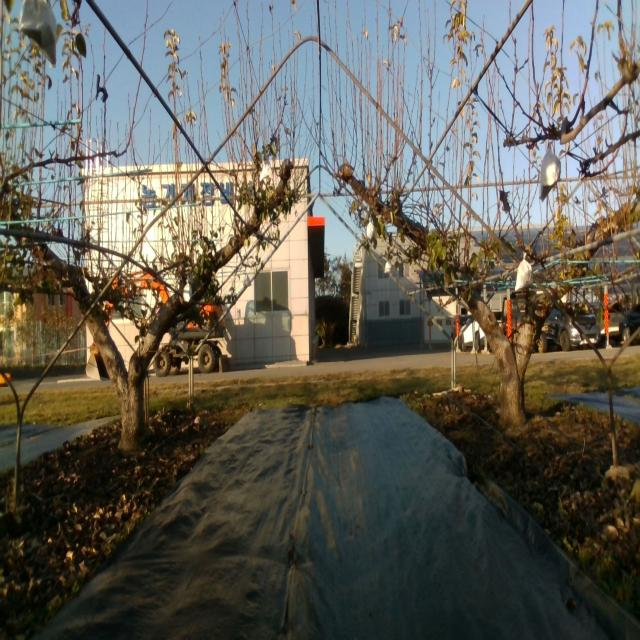pearbags: (18, 0, 56, 65), (539, 146, 562, 200), (514, 250, 532, 292), (260, 158, 272, 182)
